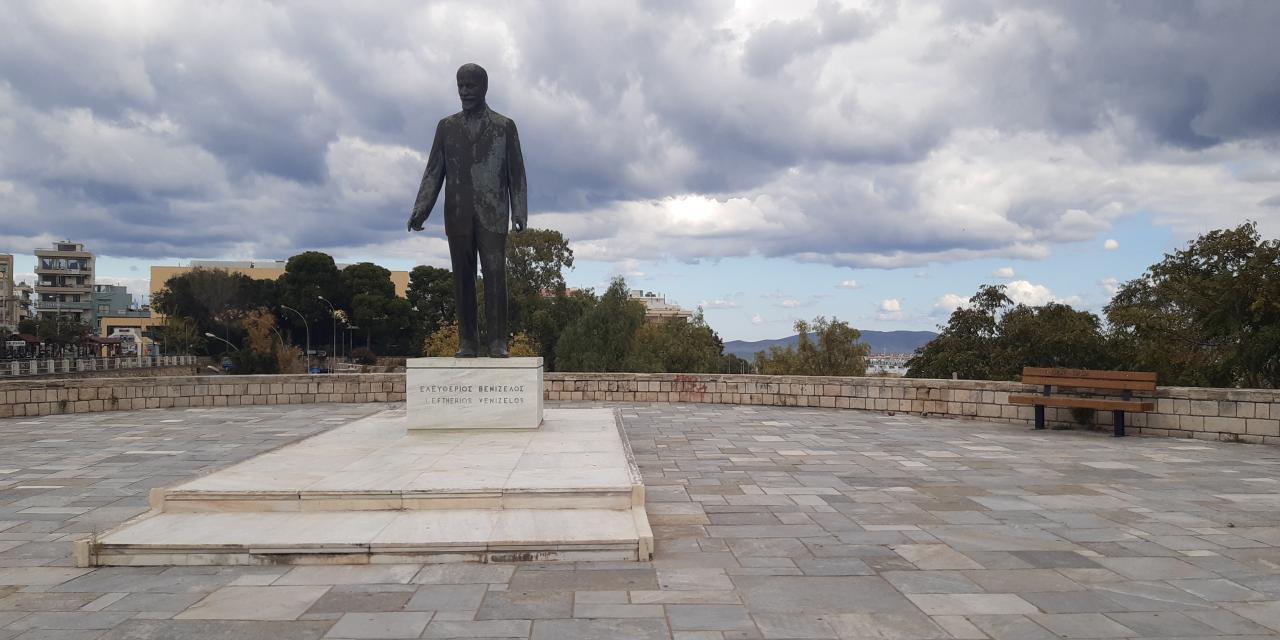Venizelos: (410, 63, 531, 359)
